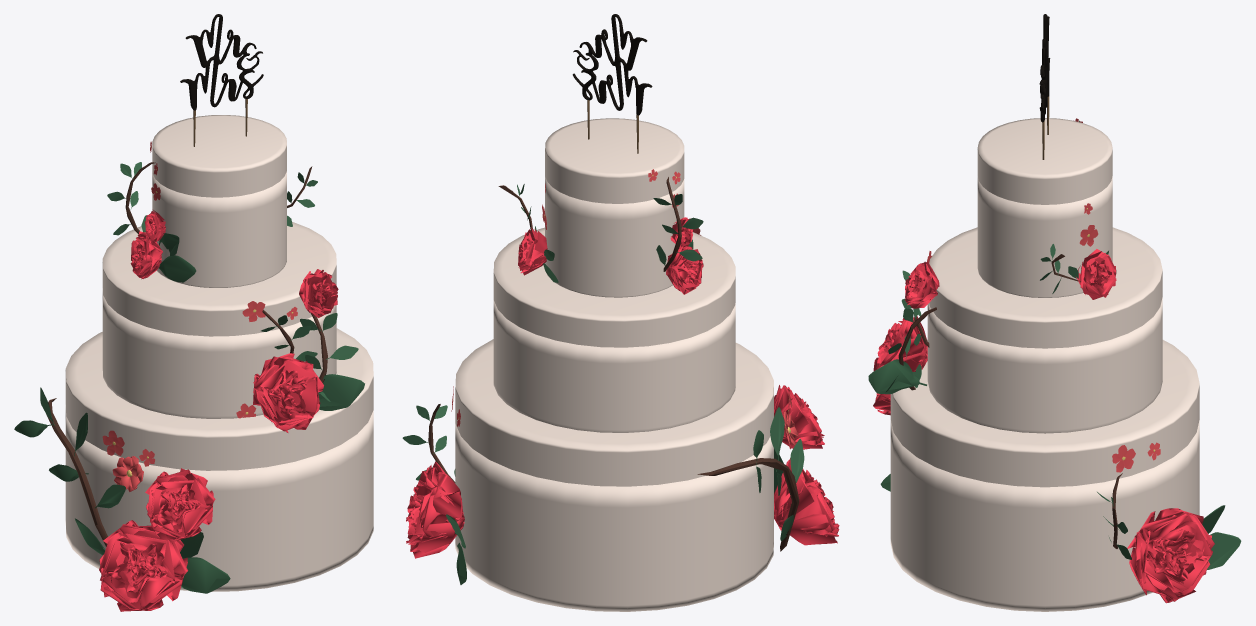
File: 3-tier-white-roses-mrms.glb
The picture shows the model from 3 angles, left to right: view 1: azimuth 30°, elevation 25°; view 2: azimuth 150°, elevation 25°; view 3: azimuth 270°, elevation 25°; orthographic projection. The views are drawn at different scales.
Visible parts, largest first — view 1: Cylinder.022, Cylinder.014, Cylinder.021, grid.042, grid.044, grid.040, Plane.093, mrms.003, grid.043, Plane.087, Plane.091, Plane.095 (+6 smaller); view 2: Cylinder.022, Cylinder.014, Cylinder.021, grid.029, grid.042, mrms.003, Plane.093, grid.040, grid.045, Plane.092, grid.047, Plane.084; view 3: Cylinder.022, Cylinder.014, Cylinder.021, grid.029, grid.044, grid.047, Plane.087, grid.043, mrms.003, Plane.095, Plane.082, Plane.084.
Part boxes in pixels (x1=…): Cylinder.022: x1=65, y1=328, x2=373, y2=591; Cylinder.014: x1=102, y1=222, x2=336, y2=418; Cylinder.021: x1=152, y1=115, x2=286, y2=287; grid.042: x1=99, y1=520, x2=187, y2=611; grid.044: x1=253, y1=353, x2=323, y2=432; grid.040: x1=145, y1=468, x2=215, y2=542; Plane.093: x1=14, y1=387, x2=125, y2=555; mrms.003: x1=180, y1=14, x2=263, y2=146; grid.043: x1=299, y1=269, x2=338, y2=317; Plane.087: x1=318, y1=374, x2=364, y2=410; Plane.091: x1=181, y1=557, x2=230, y2=593; Plane.095: x1=300, y1=313, x2=358, y2=401; Cylinder.022: x1=455, y1=339, x2=773, y2=611; Cylinder.014: x1=493, y1=227, x2=735, y2=432; Cylinder.021: x1=545, y1=118, x2=684, y2=297; grid.029: x1=406, y1=461, x2=464, y2=558; grid.042: x1=774, y1=458, x2=839, y2=545; mrms.003: x1=572, y1=14, x2=652, y2=153; Plane.093: x1=697, y1=407, x2=804, y2=551; grid.040: x1=774, y1=385, x2=824, y2=449; grid.045: x1=666, y1=246, x2=703, y2=294; Plane.092: x1=653, y1=177, x2=703, y2=271; grid.047: x1=518, y1=228, x2=547, y2=275; Plane.084: x1=402, y1=404, x2=455, y2=483; Cylinder.022: x1=890, y1=339, x2=1199, y2=611; Cylinder.014: x1=927, y1=227, x2=1162, y2=433; Cylinder.021: x1=977, y1=118, x2=1112, y2=297; grid.029: x1=1127, y1=508, x2=1214, y2=603; grid.044: x1=873, y1=316, x2=927, y2=371; grid.047: x1=1076, y1=249, x2=1116, y2=299; Plane.087: x1=868, y1=359, x2=926, y2=394; grid.043: x1=905, y1=261, x2=939, y2=308; mrms.003: x1=1039, y1=14, x2=1050, y2=159; Plane.095: x1=885, y1=307, x2=936, y2=392; Plane.082: x1=1207, y1=532, x2=1241, y2=569; Plane.084: x1=1097, y1=473, x2=1131, y2=559.
Size of the model in its own units: 5.28 by 7.71 by 4.9.
